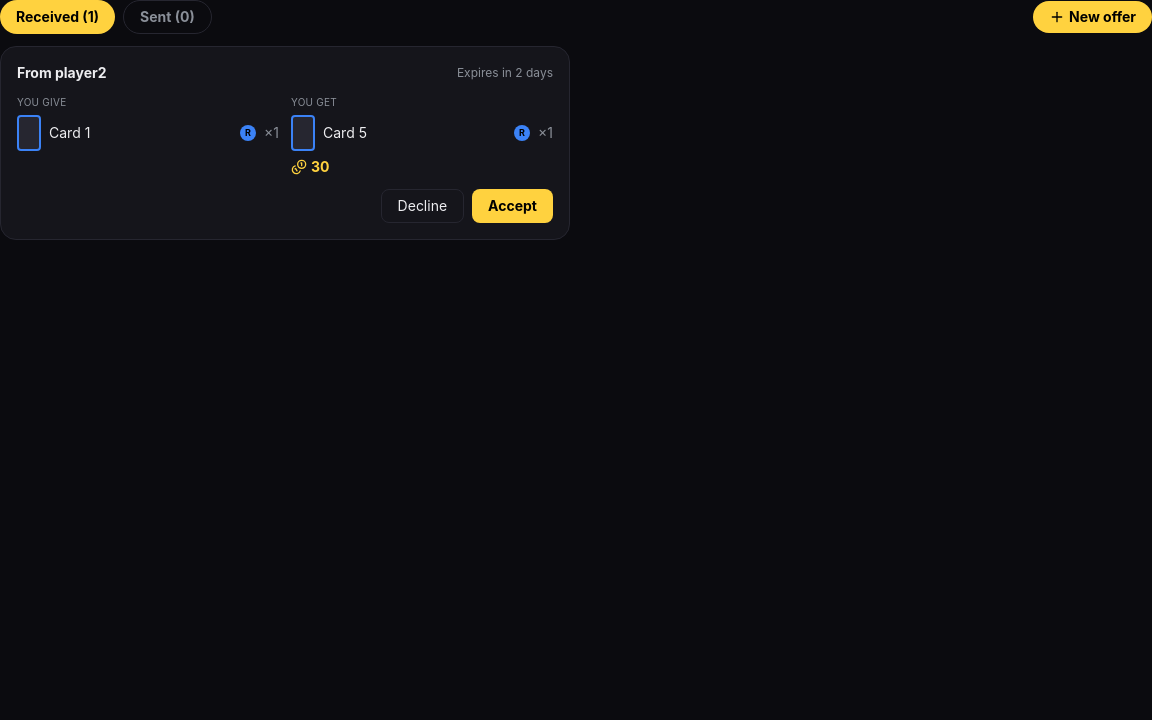
Test: TradesTab › Accept asks for confirmation with what I give and get, then calls accept_trade once
Later steps or results of the test are not shown.
What coordinates should you click on to do the following:
click the button "Accept"
I would click on:
 (513, 206)
Its box is [472, 189, 553, 223].
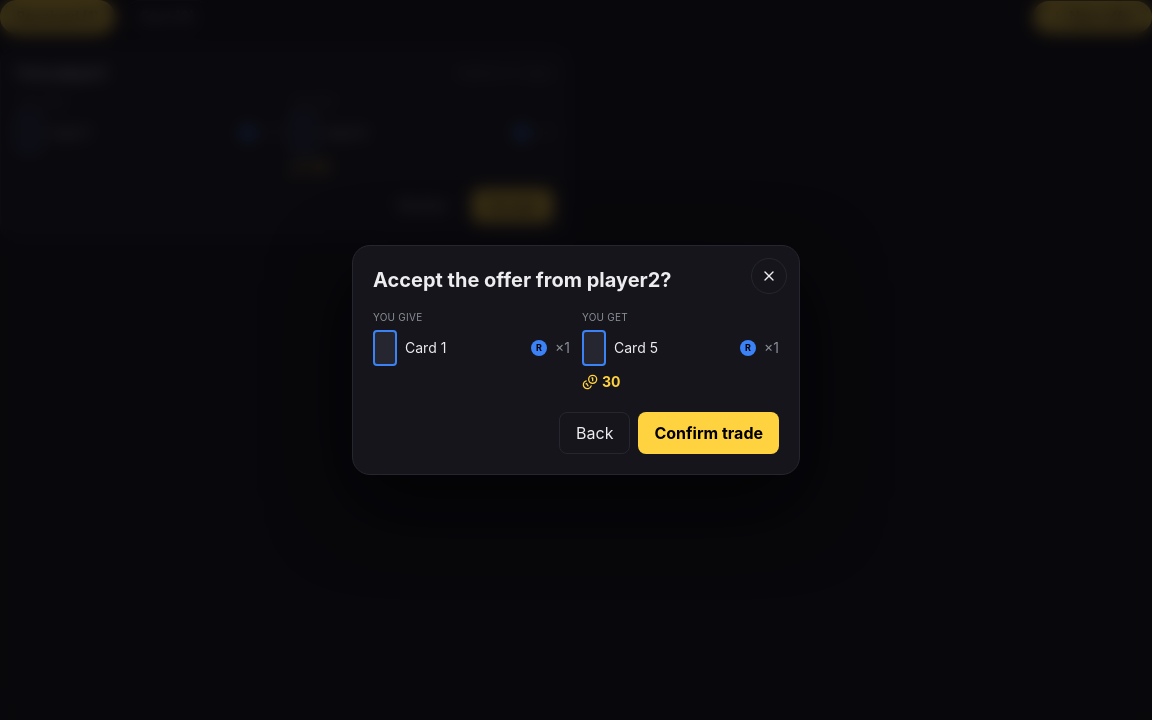
Expected: the element "You give" shows "Card 1", [405, 339, 446, 356]
Expected: the element "You get" shows "Card 5", [614, 339, 658, 356]
Expected: the element "You get" shows "30", [602, 373, 620, 390]
